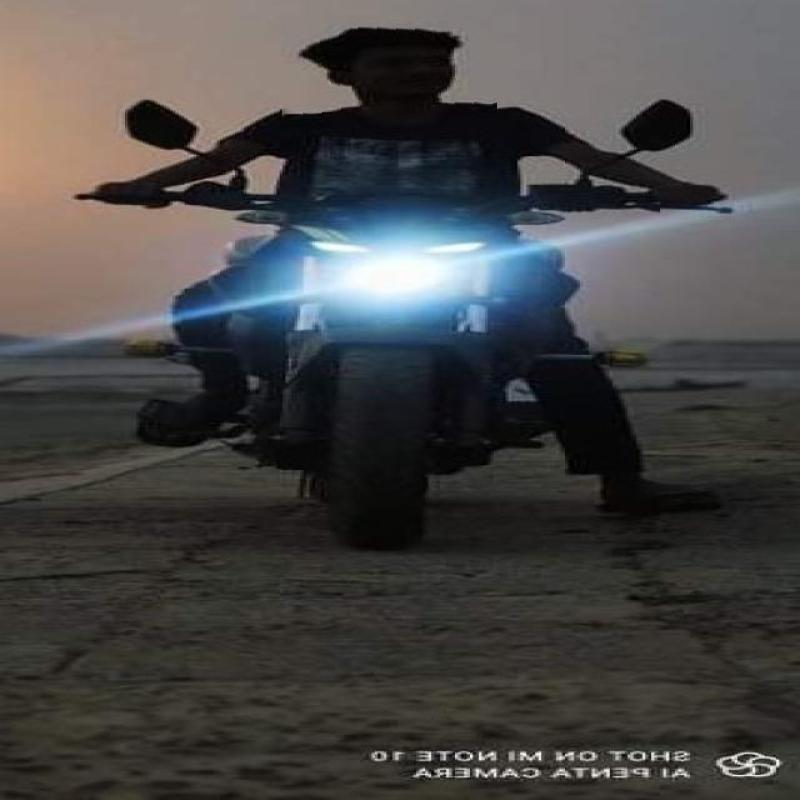nohelmet: (278, 14, 496, 127)
